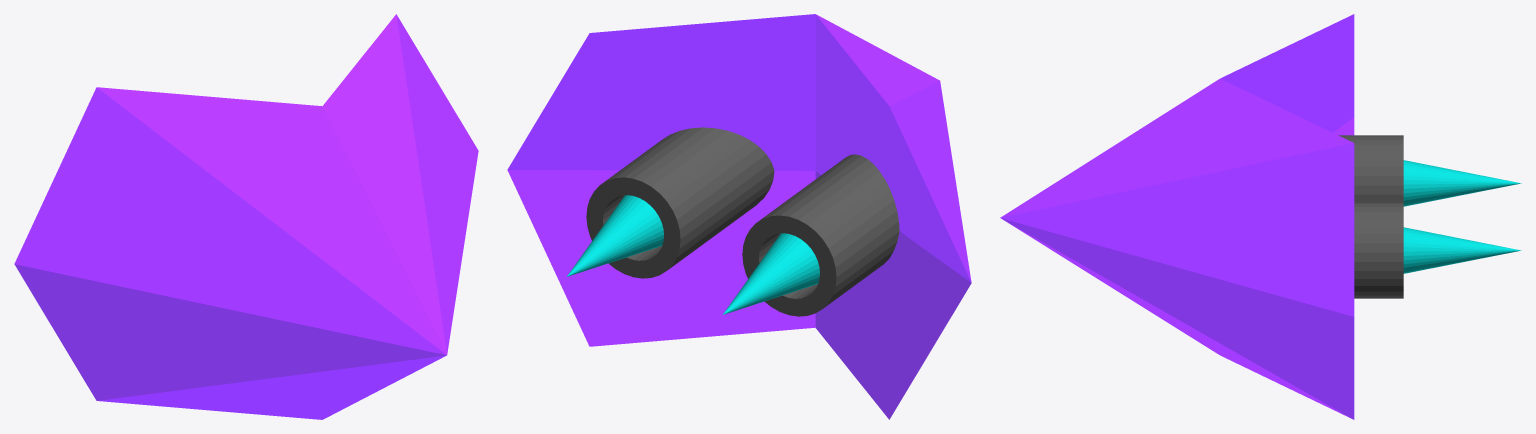
File: AsteroidShipMove.fbx
3 renders of one model, left to right at view 1: azimuth 30°, elevation 25°; view 2: azimuth 150°, elevation 25°; view 3: azimuth 270°, elevation 25°, orthographic. The views are drawn at different scales.
Visible parts, largest first — view 1: Cube; view 2: Cube, Cylinder.001, Cylinder; view 3: Cube, Cylinder.001, Cylinder.
Part boxes in pixels (<box>): Cube: <box>14,14,478,419</box>; Cube: <box>507,14,971,419</box>; Cylinder.001: <box>567,127,774,278</box>; Cylinder: <box>723,154,899,316</box>; Cube: <box>1000,14,1354,419</box>; Cylinder.001: <box>1354,202,1521,298</box>; Cylinder: <box>1338,135,1521,206</box>.
Size of the model in its own units: 310 by 200 by 342.
